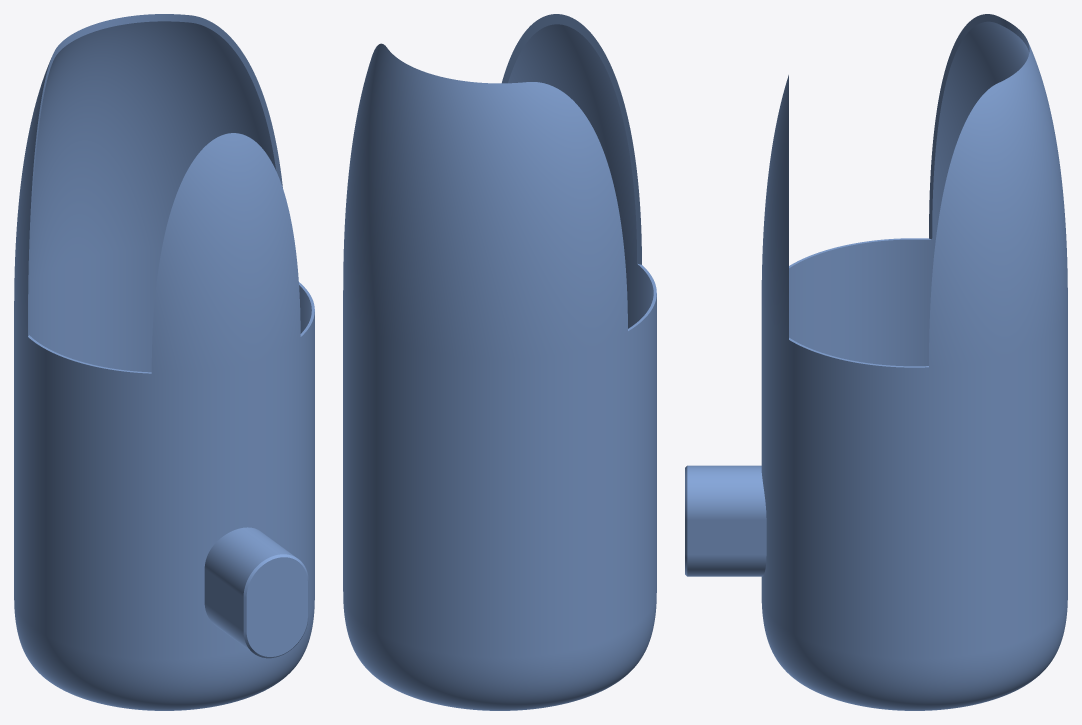
Rendered from Assembly 1 - Shell.gltf.
The picture shows the model from 3 angles, left to right: view 1: azimuth 30°, elevation 25°; view 2: azimuth 150°, elevation 25°; view 3: azimuth 270°, elevation 25°; orthographic projection. The views are drawn at different scales.
Parts seen in each view (by area): view 1: Shell; view 2: Shell; view 3: Shell.
Boxes of the visible parts, left/top/right/bottom form: Shell: left=14, top=14, right=314, bottom=710; Shell: left=343, top=14, right=656, bottom=710; Shell: left=685, top=14, right=1067, bottom=710.
Size of the model in its own units: 4 by 8.78 by 5.
